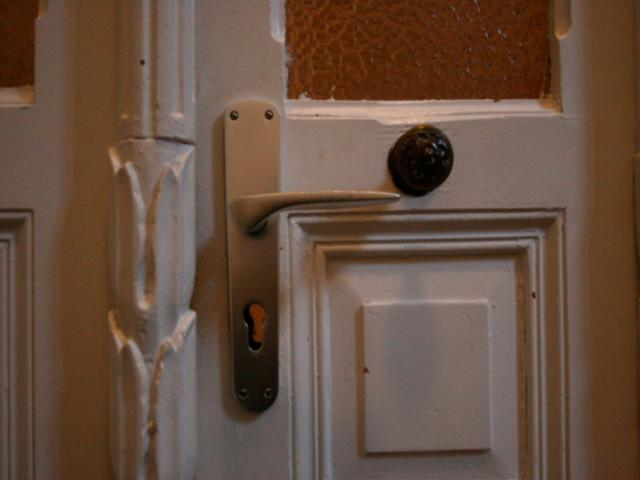Door-handle: (224, 98, 399, 416)
